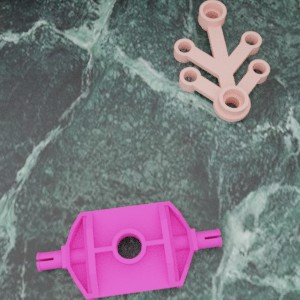lego: (36, 201, 221, 300), (173, 0, 269, 121)
